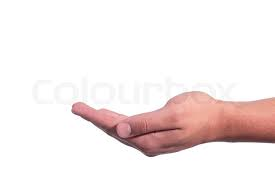hand: (47, 67, 236, 165)
